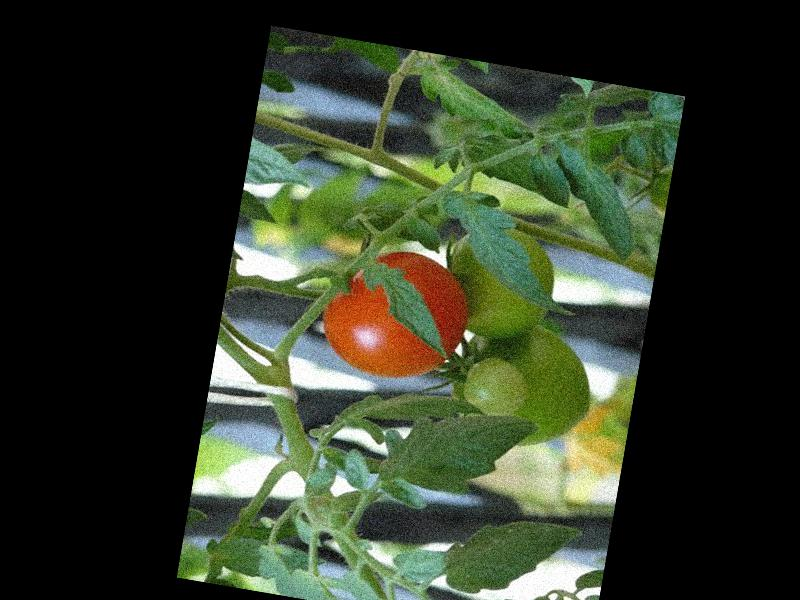Tomato: (314, 239, 475, 389)
